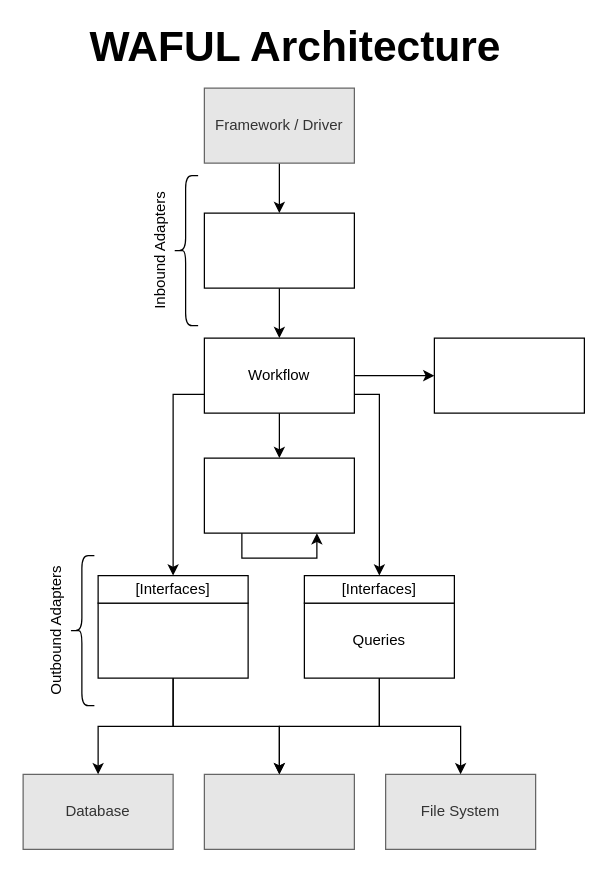
The diagram is 606 pixels wide and 871 high, and some of its shapes have lost their labels. The shapes that lost their labels are listed below. From the top down, each one's box as (x1, y1, x2, y2) in pixels, then its label:
(203, 212, 354, 288): Controller
(433, 337, 584, 413): Other Workflows
(203, 457, 354, 533): Functions
(97, 602, 248, 678): Commands
(203, 773, 354, 849): External Service
